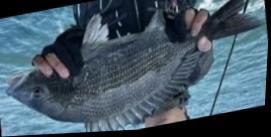fish: (3, 0, 266, 133)
